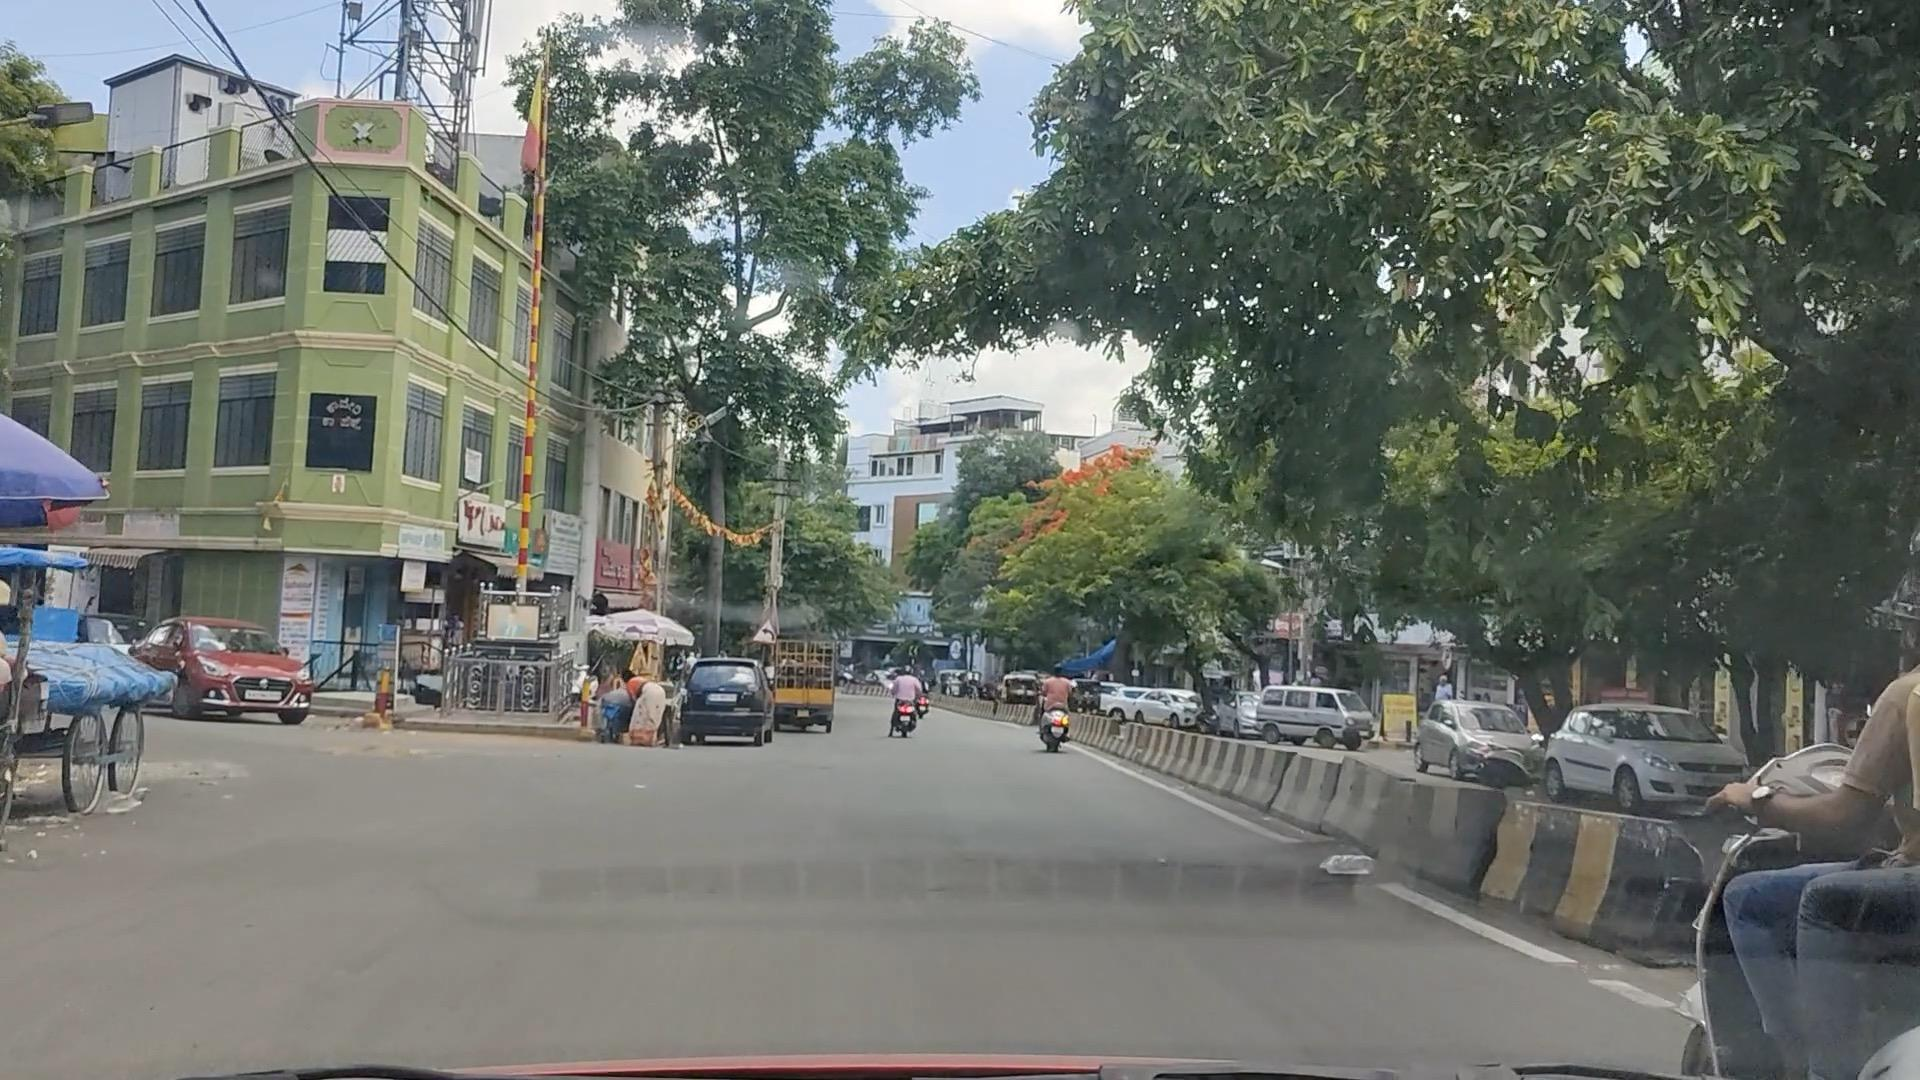LMV: (694, 646, 774, 745)
